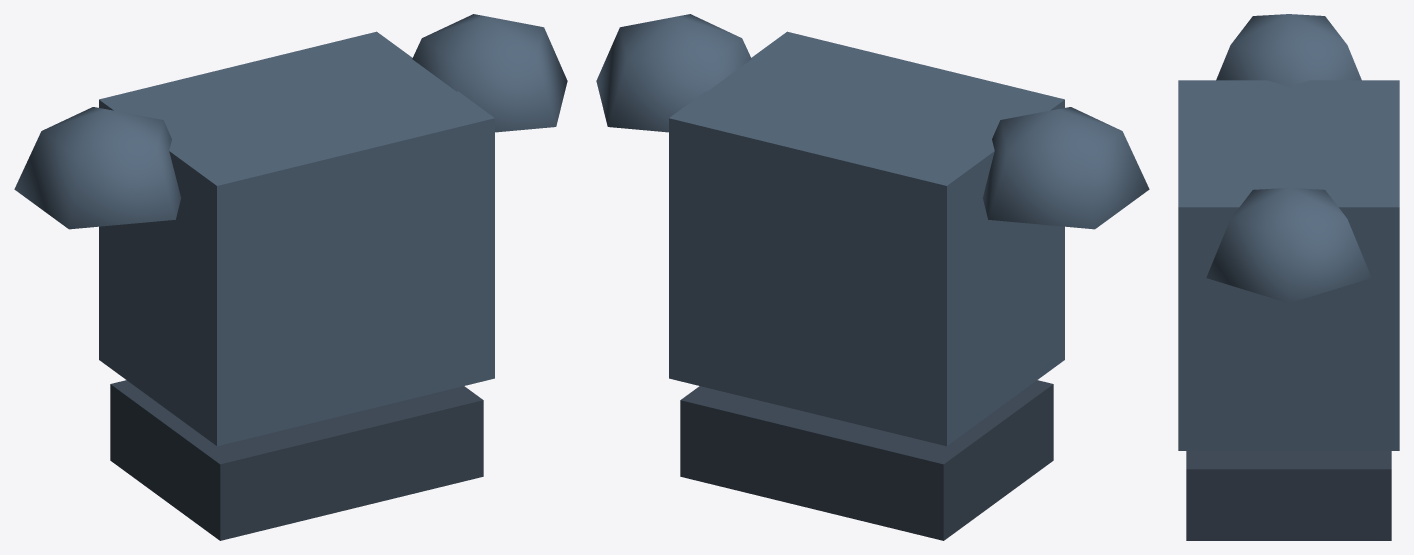
3 renders of one model, left to right at view 1: azimuth 30°, elevation 25°; view 2: azimuth 150°, elevation 25°; view 3: azimuth 270°, elevation 25°, orthographic. The views are drawn at different scales.
Parts seen in each view (by area): view 1: dweller_armor_composite; view 2: dweller_armor_composite; view 3: dweller_armor_composite.
Boxes of the visible parts, box(x1,y1,x2,y2) form: dweller_armor_composite: box(14, 14, 567, 540); dweller_armor_composite: box(596, 14, 1149, 540); dweller_armor_composite: box(1178, 14, 1399, 540).
Bounding box in the file's own units: 0.719 × 0.53 × 0.28.
